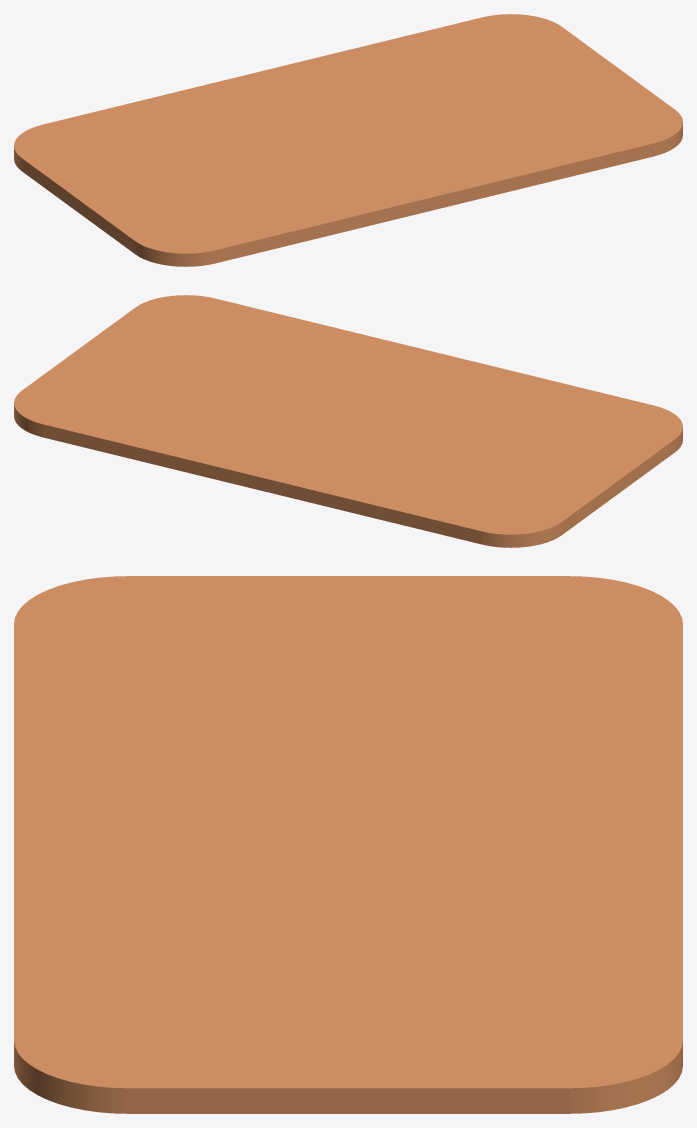
Rendered from rugDoormat.fbx.
The picture shows the model from 3 angles, top to bottom: view 1: azimuth 30°, elevation 25°; view 2: azimuth 150°, elevation 25°; view 3: azimuth 270°, elevation 25°; orthographic projection. The views are drawn at different scales.
Visible parts, largest first — view 1: rugDoormat; view 2: rugDoormat; view 3: rugDoormat.
Part boxes in pixels (x1,y1,x2,y2): rugDoormat: [14, 14, 682, 266]; rugDoormat: [14, 295, 682, 547]; rugDoormat: [14, 576, 682, 1113].
Size of the model in its own units: 4.29 by 0.1 by 2.37.
